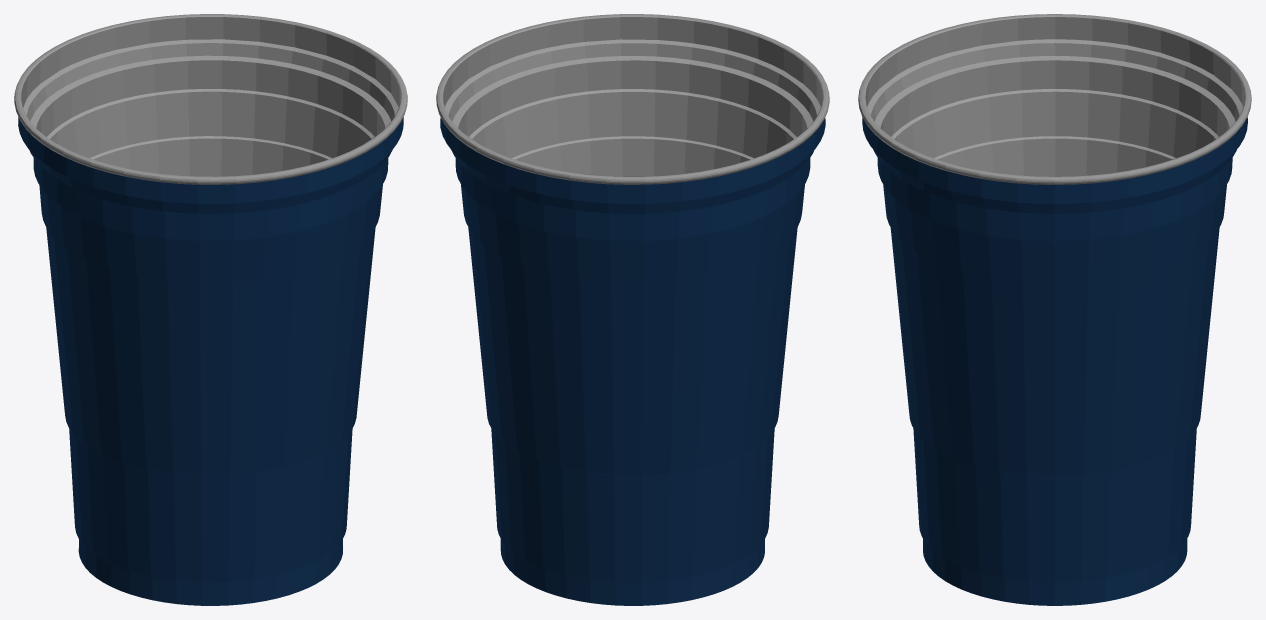
The model's file is plasticCup.obj.
3 views of the same model, side by side, from view 1: azimuth 30°, elevation 25°; view 2: azimuth 150°, elevation 25°; view 3: azimuth 270°, elevation 25° (orthographic).
Visible parts, largest first — view 1: Circle_Circle.001, Circle.001_Circle.000; view 2: Circle_Circle.001, Circle.001_Circle.000; view 3: Circle_Circle.001, Circle.001_Circle.000.
Part boxes in pixels (bbox=[...]): Circle_Circle.001: bbox=[18, 117, 403, 605]; Circle.001_Circle.000: bbox=[14, 14, 407, 184]; Circle_Circle.001: bbox=[440, 118, 825, 605]; Circle.001_Circle.000: bbox=[436, 14, 829, 184]; Circle_Circle.001: bbox=[862, 117, 1247, 605]; Circle.001_Circle.000: bbox=[858, 14, 1251, 184].
Bounding box in the file's own units: 7.88 × 10.02 × 7.88.
